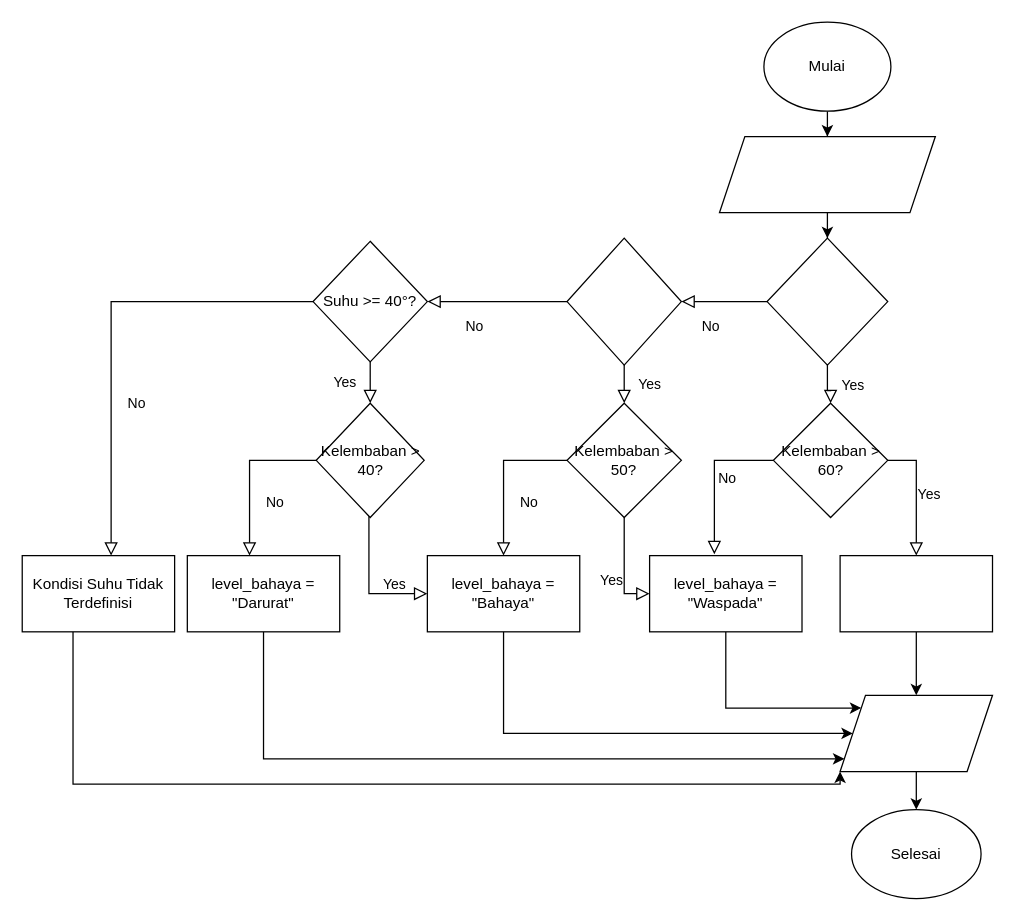
Some shapes in this 1015 by 921 pixel diagram are drawn without their labels. The centre of each missing label's shape, as x and y in pixels:
Baca dan cek nilai suhu dan kelembaban: (826,174)
level_bahaya = "Aman": (916,593)
Suhu < 30°?: (827,301)
Suhu >= 30° dan Suhu < 40°?: (623,301)
Tampilkan level_bahaya: (916,733)
